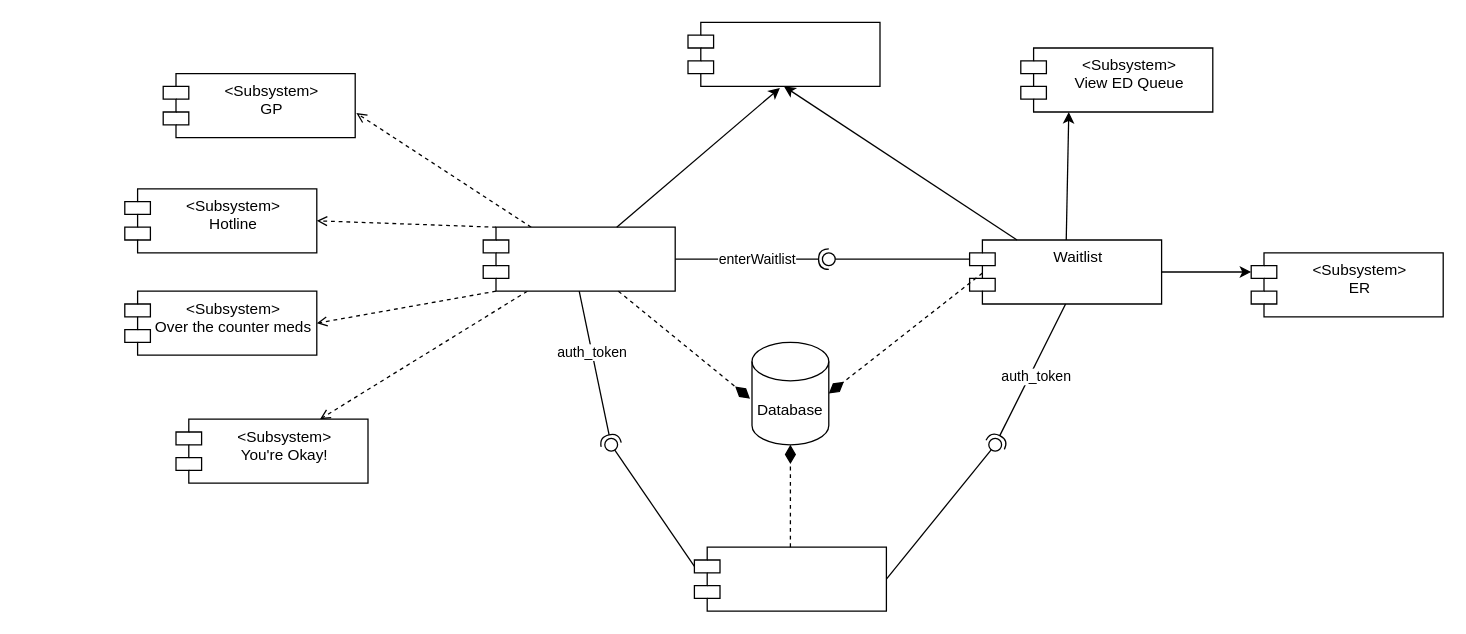
This 1466x634 diagram has some shape labels left out. Here are the shapes that lost their labels. From the top down, the centre of each, then its label:
At (783,53): "<Subsystem> Enter Waitlist".
At (578,258): "Triage".
At (789,578): "Auth".
